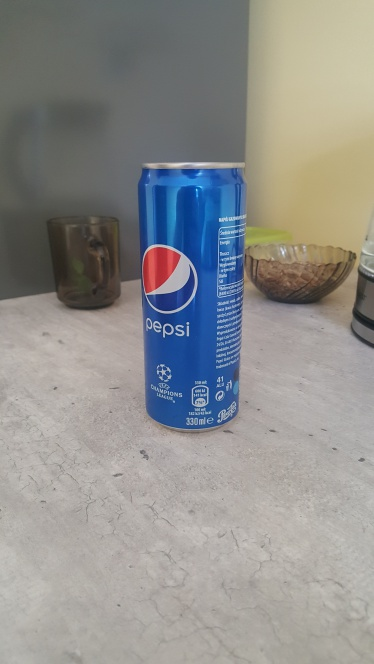pepsi: (131, 154, 247, 436)
